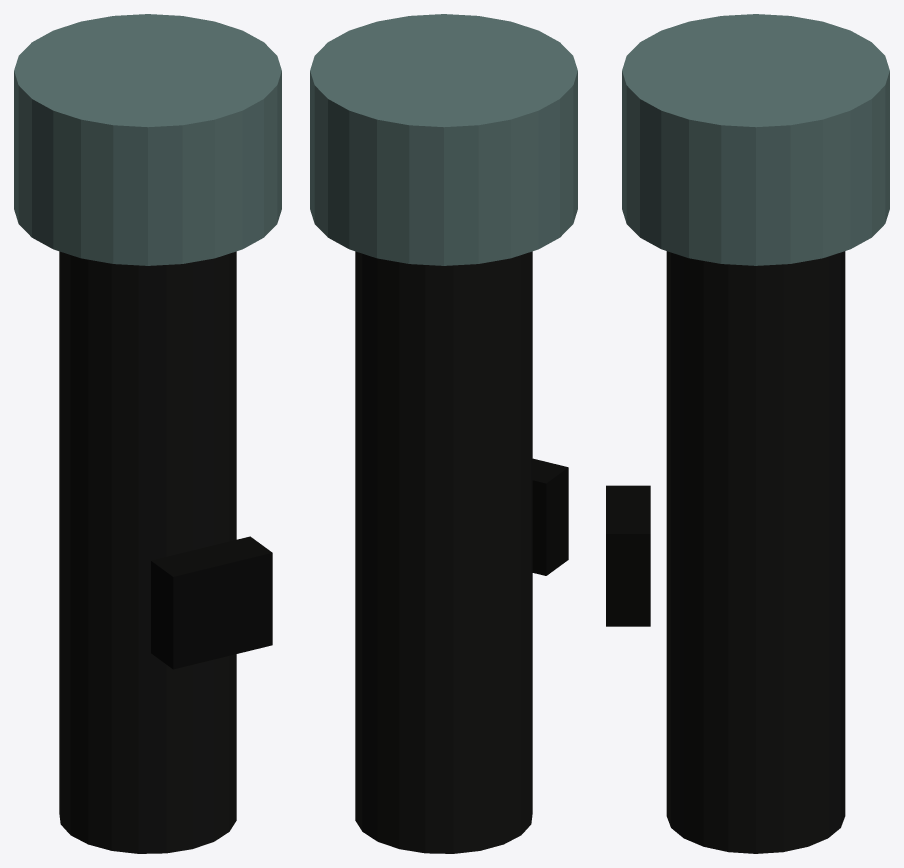
Rendered from fps_flashlight_prop.obj.
3 renders of one model, left to right at view 1: azimuth 30°, elevation 25°; view 2: azimuth 150°, elevation 25°; view 3: azimuth 270°, elevation 25°, orthographic.
Parts seen in each view (by area): view 1: fps_flashlight_prop; view 2: fps_flashlight_prop; view 3: fps_flashlight_prop.
Part boxes in pixels (bbox=[...]): fps_flashlight_prop: bbox=[14, 14, 281, 853]; fps_flashlight_prop: bbox=[310, 14, 577, 853]; fps_flashlight_prop: bbox=[606, 14, 889, 853].
Bounding box in the file's own units: 0.21 × 0.645 × 0.2225.
